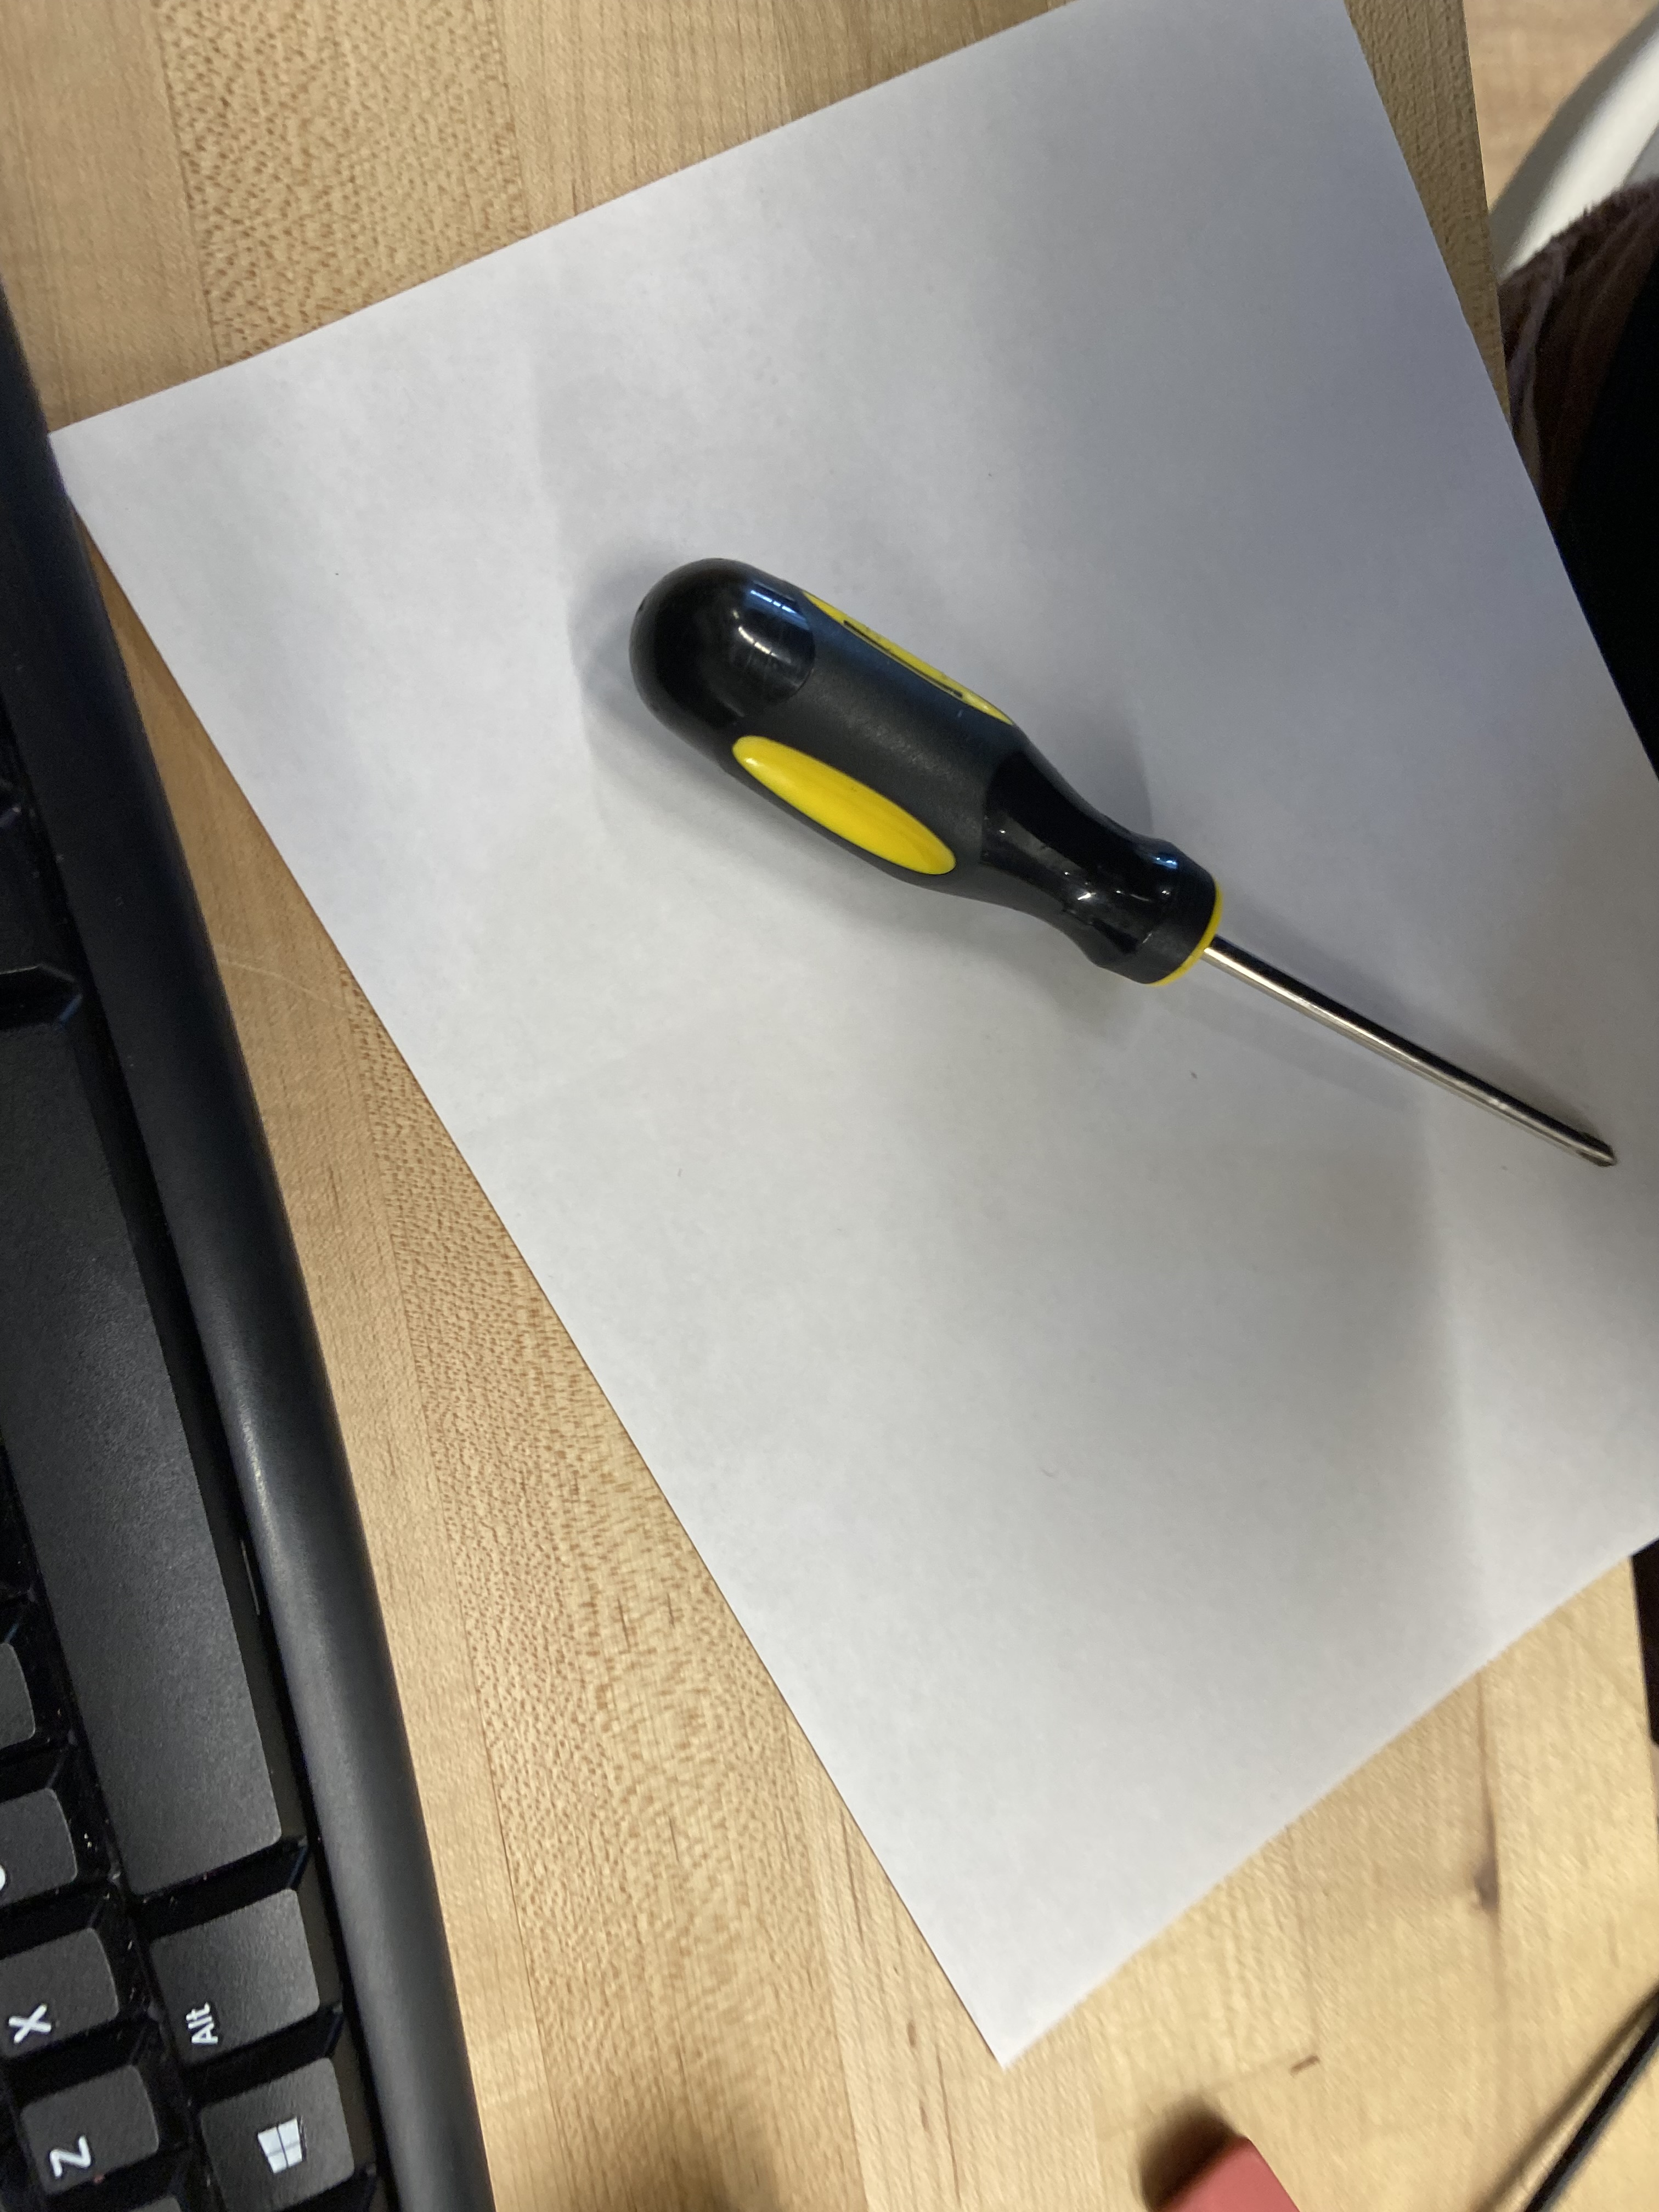screwdriver: (624, 556, 1617, 1172)
